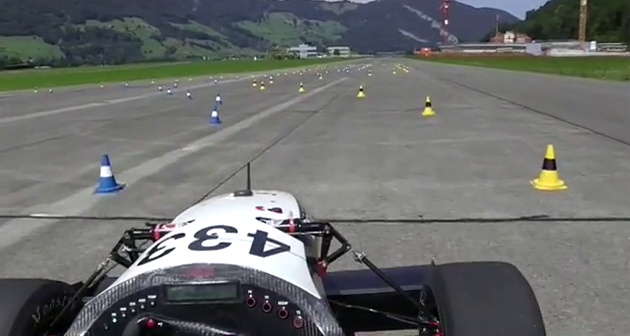Cone: (529, 141, 570, 192), (92, 153, 127, 194), (421, 94, 437, 117), (207, 105, 224, 125), (356, 84, 368, 99)
